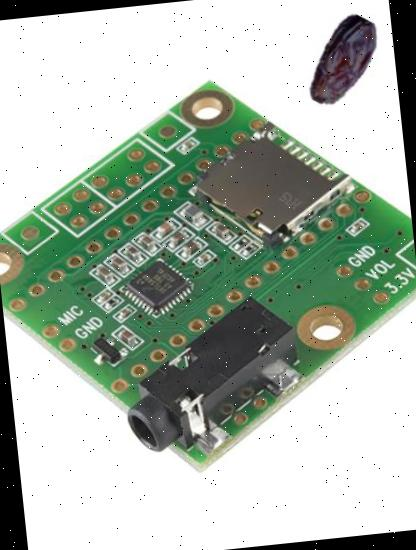Dates: (290, 9, 397, 116)
